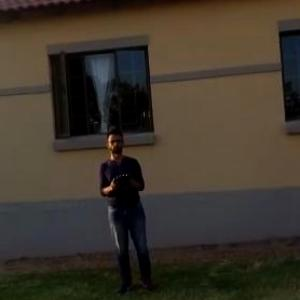follow: (97, 124, 161, 298)
